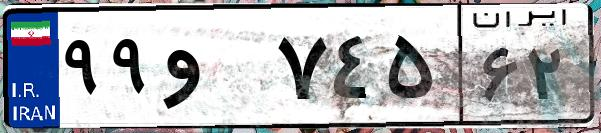2: (525, 38, 570, 115)
4: (330, 28, 385, 110)
5: (385, 28, 445, 110)
6: (475, 38, 525, 113)
7: (270, 28, 330, 110)
9: (57, 26, 110, 100), (110, 28, 158, 98)
و: (158, 20, 270, 120)
